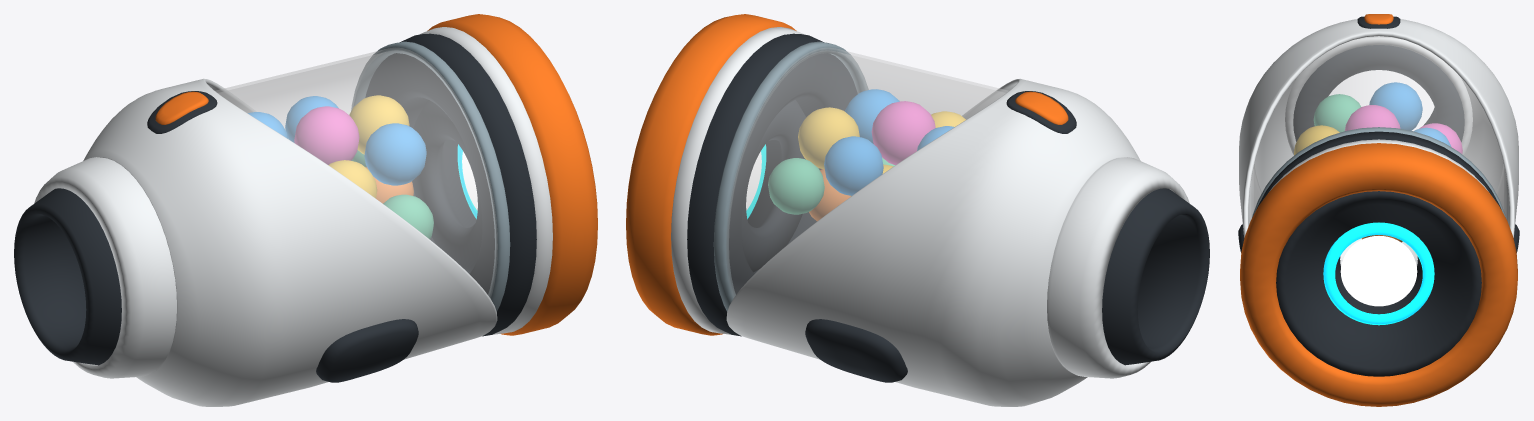
File: particle-cannon.glb
3 views of the same model, side by side, from view 1: azimuth 30°, elevation 25°; view 2: azimuth 150°, elevation 25°; view 3: azimuth 270°, elevation 25° (orthographic). The views are drawn at different scales.
Parts seen in each view (by area): view 1: Body_continuous_window_shell, Chamber_clear_tube, Muzzle_orange_rounded_ring, Barrel_graphite_shroud, Connector_socket_graphite, Connector_white_collar, Barrel_recessed_bore, Muzzle_white_seat, Chamber_front_seal, Body_side_grip_-1, Particle_07, Particle_05 (+7 smaller); view 2: Body_continuous_window_shell, Chamber_clear_tube, Muzzle_orange_rounded_ring, Barrel_graphite_shroud, Connector_socket_graphite, Connector_white_collar, Muzzle_white_seat, Chamber_front_seal, Barrel_recessed_bore, Body_side_grip_1, Particle_05, Particle_06 (+6 smaller); view 3: Muzzle_orange_rounded_ring, Barrel_recessed_bore, Chamber_clear_tube, Body_continuous_window_shell, Connector_socket_graphite, Barrel_emitter_lens, Barrel_cyan_inner_halo, Connector_white_collar, Barrel_graphite_shroud, Particle_02, Chamber_front_seal, Particle_01 (+7 smaller).
Boxes of the visible parts, x1,y1,x2,y2 form: Body_continuous_window_shell: (83, 78, 497, 406); Chamber_clear_tube: (215, 48, 497, 297); Muzzle_orange_rounded_ring: (427, 14, 597, 335); Barrel_graphite_shroud: (365, 33, 536, 336); Connector_socket_graphite: (14, 188, 121, 365); Connector_white_collar: (34, 157, 176, 378); Barrel_recessed_bore: (412, 100, 482, 272); Muzzle_white_seat: (419, 27, 552, 334); Chamber_front_seal: (351, 41, 510, 311); Body_side_grip_-1: (316, 319, 418, 382); Particle_07: (364, 123, 426, 185); Particle_05: (294, 106, 359, 164); Body_continuous_window_shell: (726, 78, 1140, 406); Chamber_clear_tube: (726, 48, 1008, 297); Muzzle_orange_rounded_ring: (626, 14, 796, 335); Barrel_graphite_shroud: (687, 33, 857, 336); Connector_socket_graphite: (1102, 188, 1209, 365); Connector_white_collar: (1047, 157, 1189, 378); Muzzle_white_seat: (671, 27, 804, 334); Chamber_front_seal: (713, 41, 868, 311); Barrel_recessed_bore: (741, 100, 805, 272); Body_side_grip_1: (805, 319, 907, 382); Particle_05: (871, 101, 935, 164); Particle_06: (824, 136, 883, 195); Muzzle_orange_rounded_ring: (1240, 143, 1517, 406); Barrel_recessed_bore: (1276, 191, 1481, 376); Chamber_clear_tube: (1251, 36, 1506, 265); Body_continuous_window_shell: (1239, 19, 1518, 265); Connector_socket_graphite: (1293, 45, 1464, 141); Barrel_emitter_lens: (1340, 236, 1417, 306); Barrel_cyan_inner_halo: (1323, 222, 1434, 325); Connector_white_collar: (1285, 36, 1472, 155); Barrel_graphite_shroud: (1256, 131, 1501, 209); Particle_02: (1369, 82, 1422, 130); Chamber_front_seal: (1252, 127, 1505, 217); Particle_01: (1313, 94, 1360, 132).
Bounding box in the file's own units: 0.765 × 0.4605 × 0.456.
